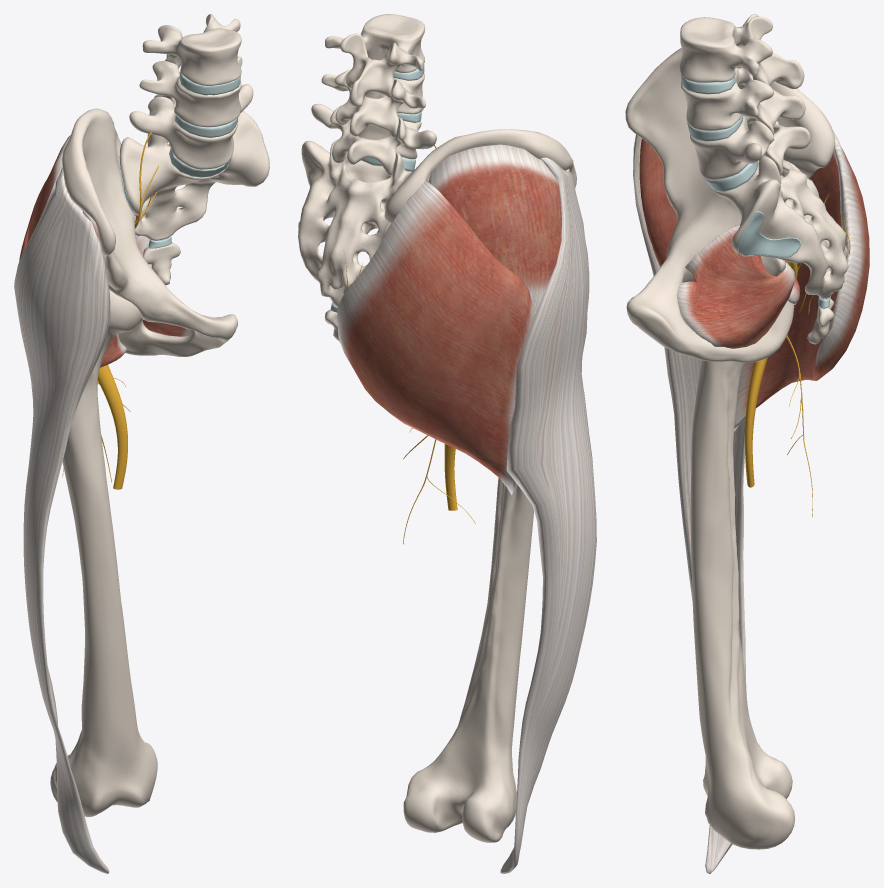
Rendered from muscles-gluteal-region-abductors-rotators-thigh.glb.
3 renders of one model, left to right at view 1: azimuth 30°, elevation 25°; view 2: azimuth 150°, elevation 25°; view 3: azimuth 270°, elevation 25°, orthographic. The views are drawn at different scales.
Parts seen in each view (by area): view 1: Iliotibial tract.r, Femur.r, Hip bone.r, Sacrum, Lumbar vertebra (L3), Lumbar vertebra (L5), Lumbar vertebra (L4), Sciatic nerve.r, Coccyx, Gluteus medius muscle.r, Annulus fibrosus L4 L5, Annulus fibrosus L3 L4 (+1 smaller); view 2: Gluteus maximus muscle.r, Iliotibial tract.r, Femur.r, Gluteus medius muscle.r, Sacrum, Lumbar vertebra (L3), Hip bone.r, Lumbar vertebra (L5), Lumbar vertebra (L4), Sciatic nerve.r; view 3: Femur.r, Hip bone.r, Gluteus maximus muscle.r, Obturator internus.r, Sacrum, Iliotibial tract.r, Lumbar vertebra (L3), Lumbar vertebra (L4), Lumbar vertebra (L5), Tensor fasciae latae.r, Sciatic nerve.r, Art cart of sacroiliac joint on sacrum (+4 smaller).
Boxes of the visible parts, left/top/right/bottom form: Iliotibial tract.r: left=14, top=167, right=110, bottom=873; Femur.r: left=50, top=290, right=157, bottom=817; Hip bone.r: left=62, top=108, right=237, bottom=356; Sacrum: left=119, top=111, right=269, bottom=240; Lumbar vertebra (L3): left=142, top=14, right=241, bottom=85; Lumbar vertebra (L5): left=129, top=84, right=253, bottom=169; Lumbar vertebra (L4): left=139, top=56, right=242, bottom=127; Sciatic nerve.r: left=62, top=364, right=130, bottom=489; Coccyx: left=143, top=243, right=180, bottom=285; Gluteus medius muscle.r: left=26, top=135, right=83, bottom=244; Annulus fibrosus L4 L5: left=175, top=115, right=237, bottom=137; Annulus fibrosus L3 L4: left=179, top=73, right=240, bottom=95; Gluteus maximus muscle.r: left=337, top=180, right=533, bottom=494; Iliotibial tract.r: left=500, top=157, right=596, bottom=873; Femur.r: left=403, top=477, right=533, bottom=842; Gluteus medius muscle.r: left=429, top=144, right=561, bottom=319; Sacrum: left=298, top=139, right=411, bottom=306; Lumbar vertebra (L3): left=325, top=14, right=425, bottom=106; Hip bone.r: left=384, top=129, right=576, bottom=223; Lumbar vertebra (L5): left=311, top=103, right=436, bottom=175; Lumbar vertebra (L4): left=321, top=69, right=425, bottom=137; Sciatic nerve.r: left=403, top=428, right=475, bottom=544; Femur.r: left=690, top=360, right=794, bottom=849; Hip bone.r: left=625, top=46, right=834, bottom=362; Gluteus maximus muscle.r: left=734, top=101, right=869, bottom=431; Obturator internus.r: left=676, top=224, right=794, bottom=348; Sacrum: left=714, top=121, right=848, bottom=298; Iliotibial tract.r: left=633, top=134, right=746, bottom=873; Lumbar vertebra (L3): left=679, top=14, right=804, bottom=89; Lumbar vertebra (L4): left=681, top=67, right=805, bottom=135; Lumbar vertebra (L5): left=690, top=116, right=810, bottom=180; Tensor fasciae latae.r: left=639, top=138, right=677, bottom=266; Sciatic nerve.r: left=745, top=261, right=812, bottom=517; Art cart of sacroiliac joint on sacrum: left=737, top=211, right=801, bottom=258.
Size of the model in its own units: 0.2236 by 0.6729 by 0.1649.
Materials: 14 (4 with a texture image).
